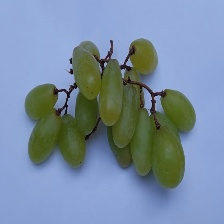grapes: (43, 41, 215, 185)
